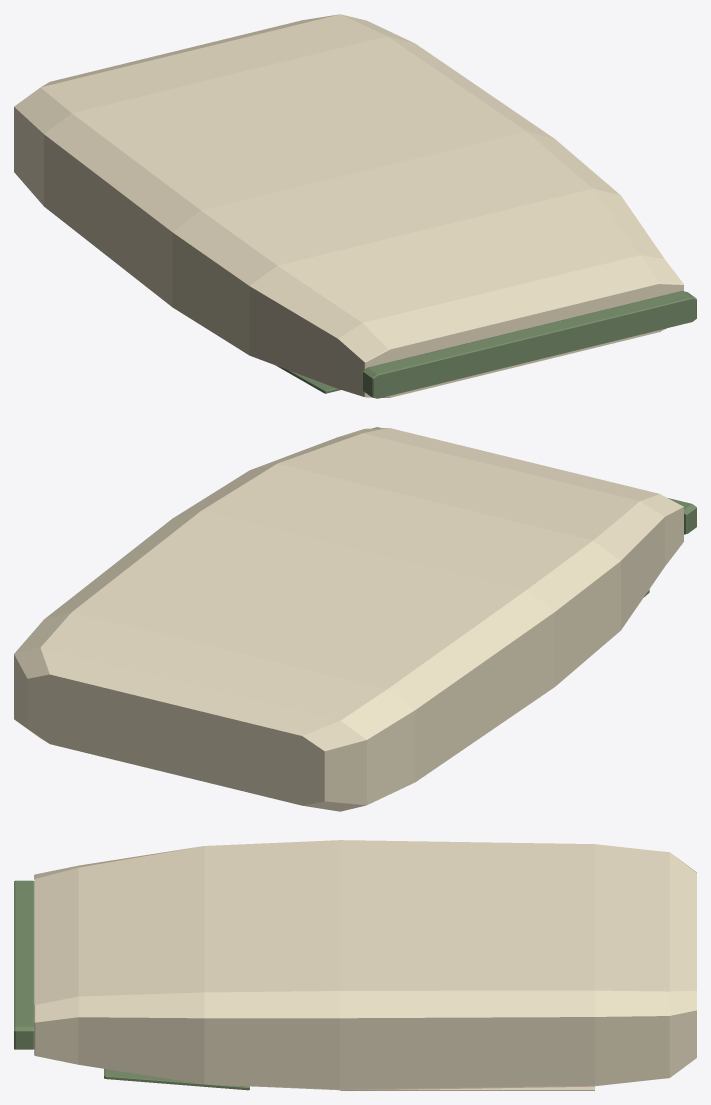
Rendered from fruit_leather.glb.
3 views of the same model, one above another, from view 1: azimuth 30°, elevation 25°; view 2: azimuth 150°, elevation 25°; view 3: azimuth 270°, elevation 25° (orthographic). The views are drawn at different scales.
Visible parts, largest first — view 1: fruit_leather; view 2: fruit_leather; view 3: fruit_leather.
Part boxes in pixels (<box>): fruit_leather: <box>14,14,696,398</box>; fruit_leather: <box>14,427,696,811</box>; fruit_leather: <box>14,840,696,1090</box>.
Size of the model in its own units: 0.0927 by 0.0257 by 0.1507.
